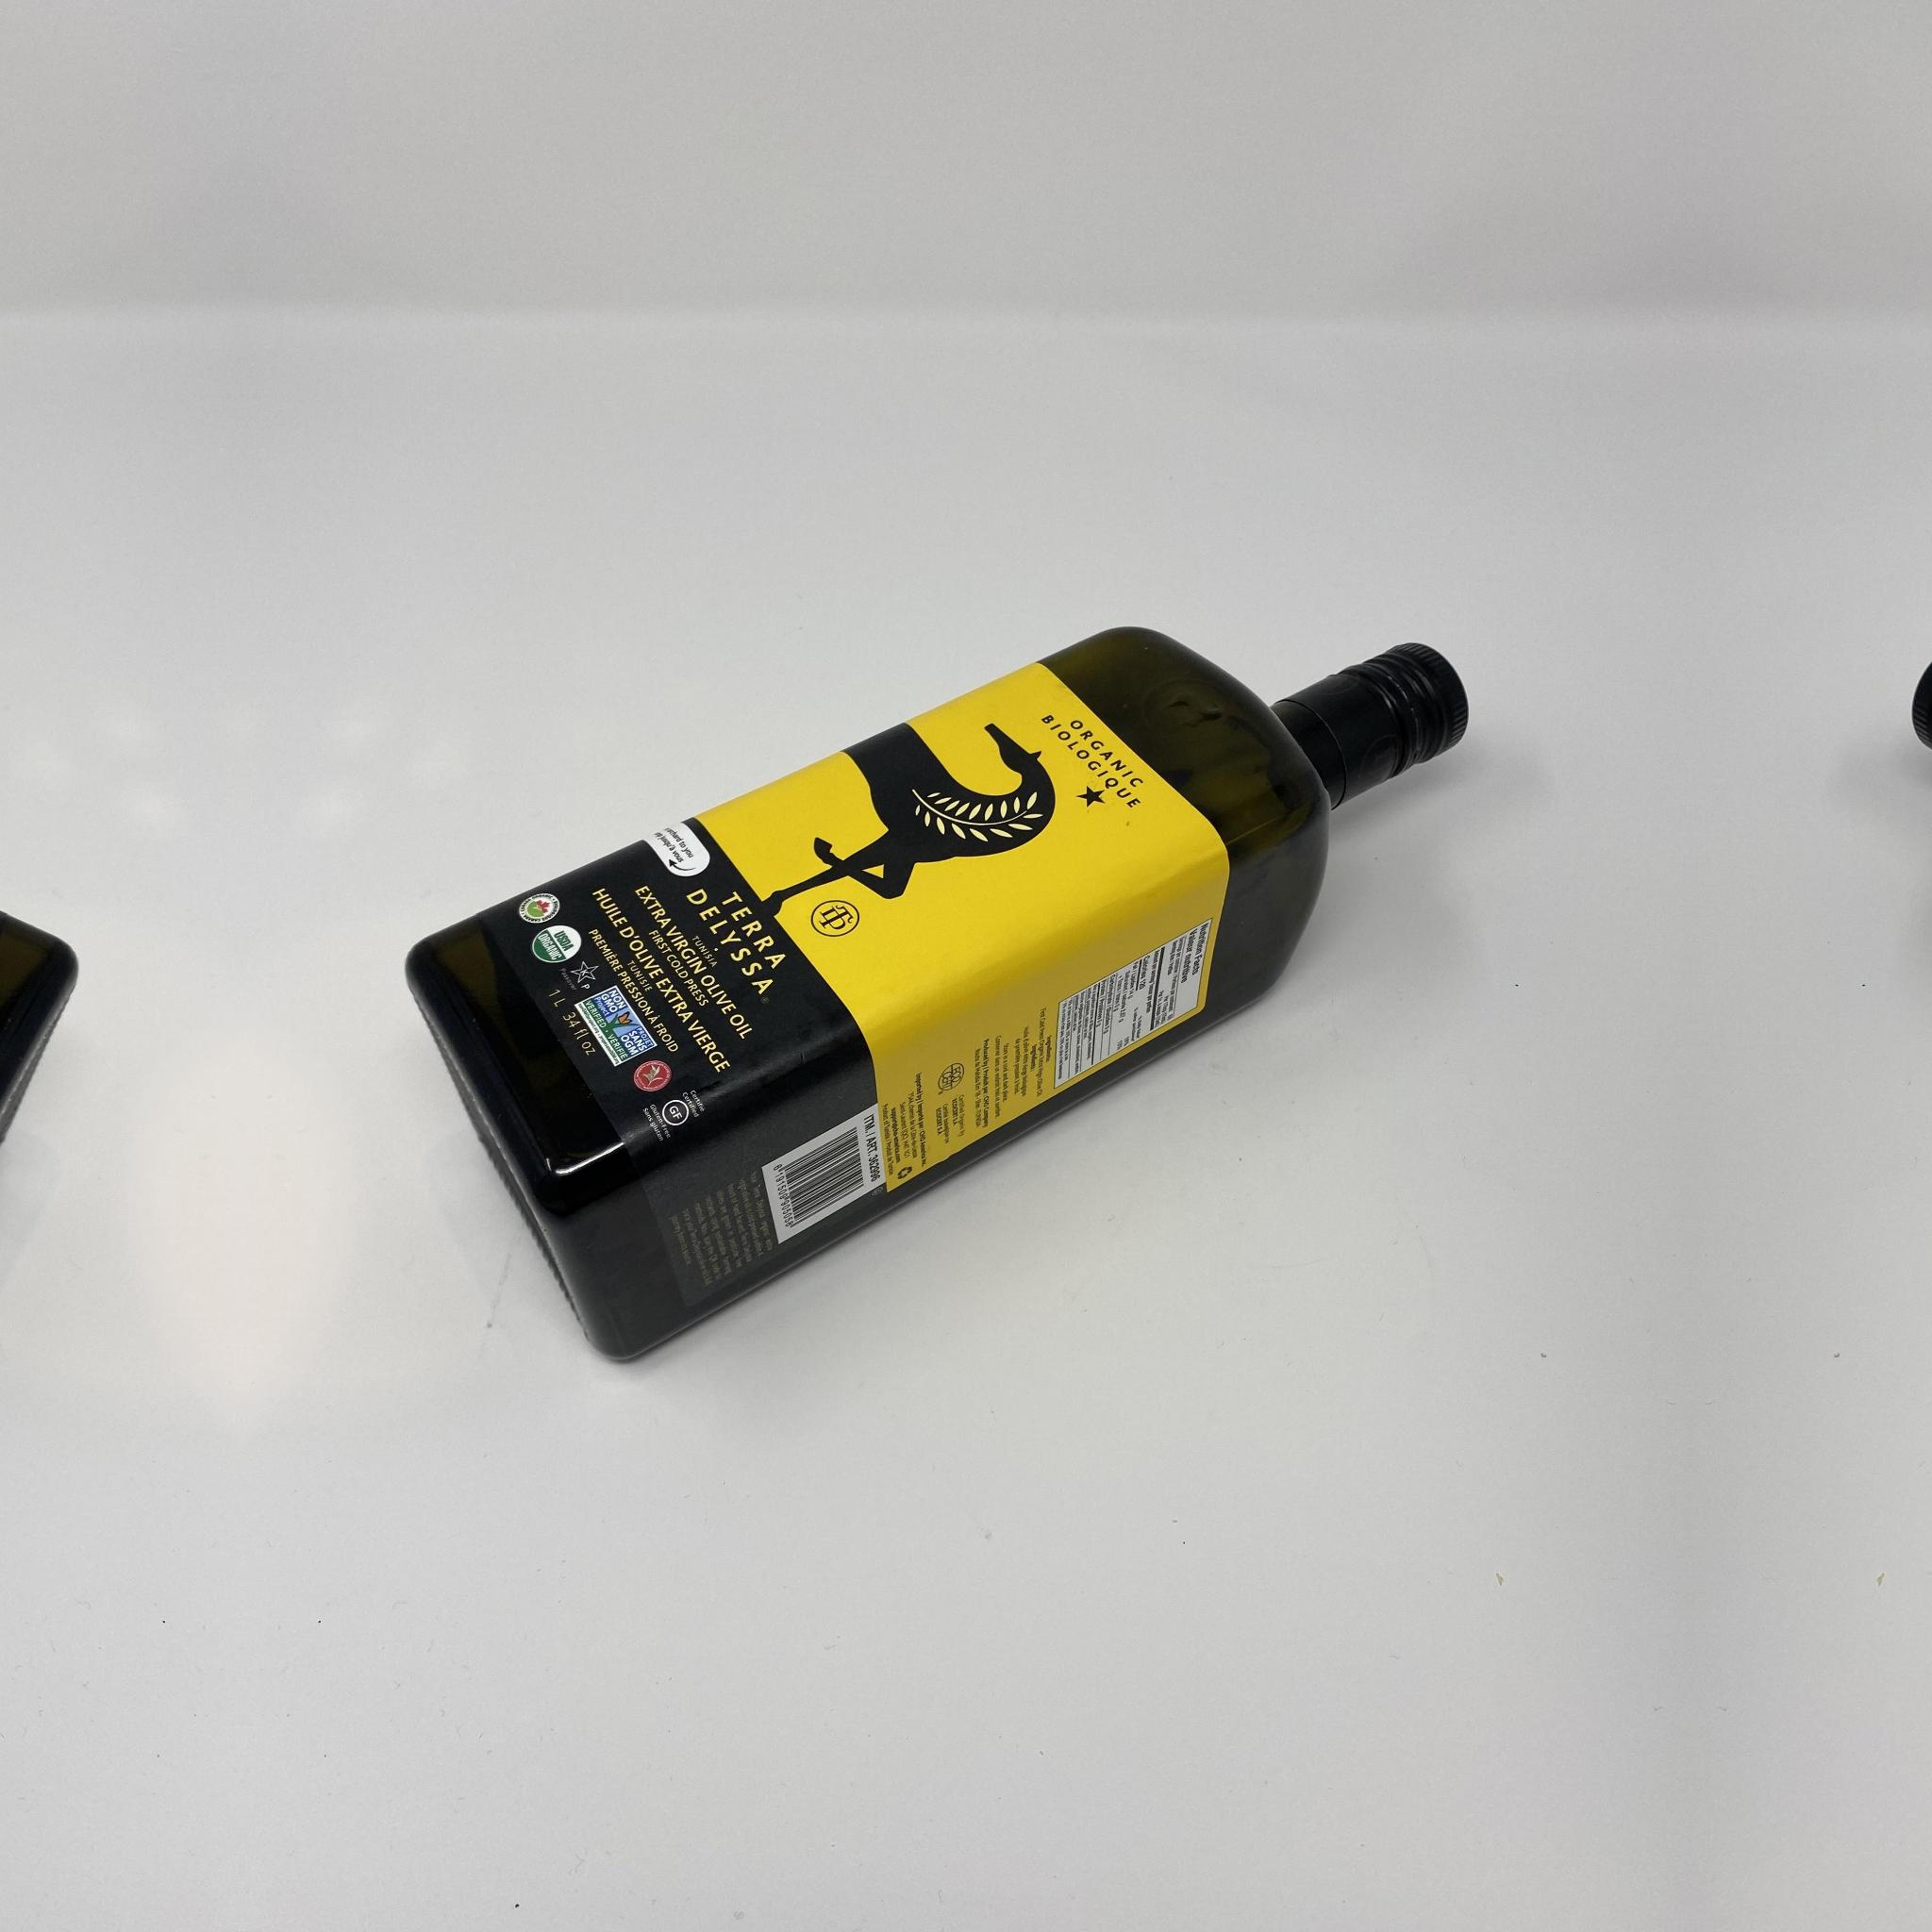glass: (402, 623, 1470, 1364)
oil: (402, 623, 1470, 1364)
sodocalcique: (402, 623, 1470, 1364)
